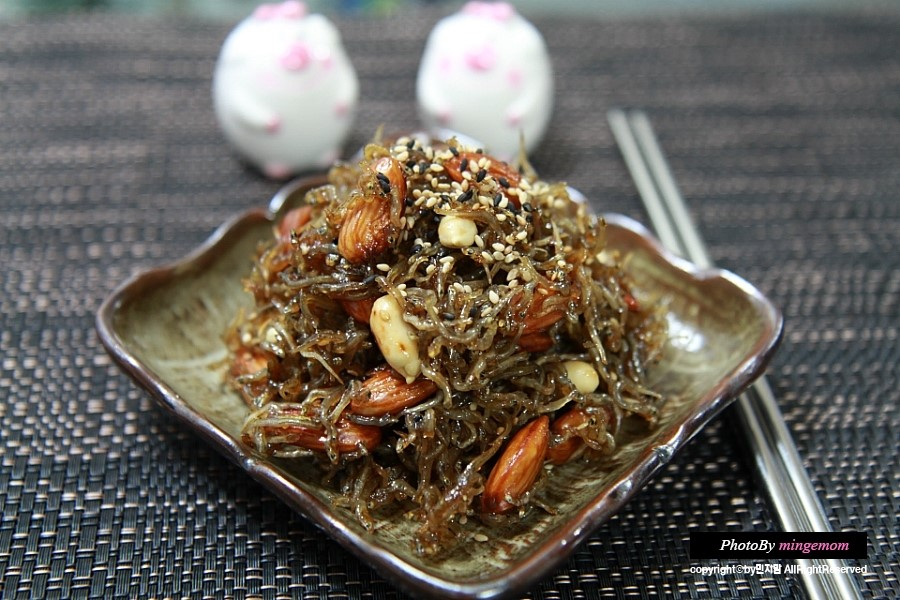myeolchibokk-eum: (219, 124, 681, 560)
